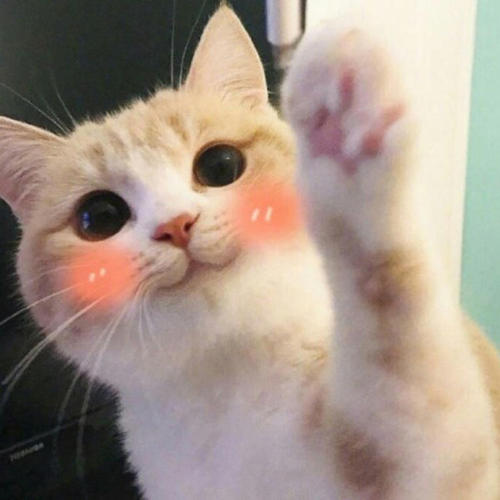cat: (5, 91, 315, 372)
